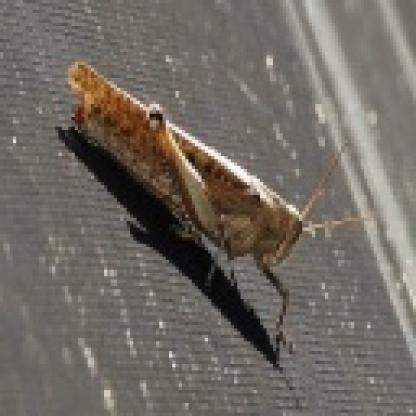grasshopper: (60, 54, 322, 301)
